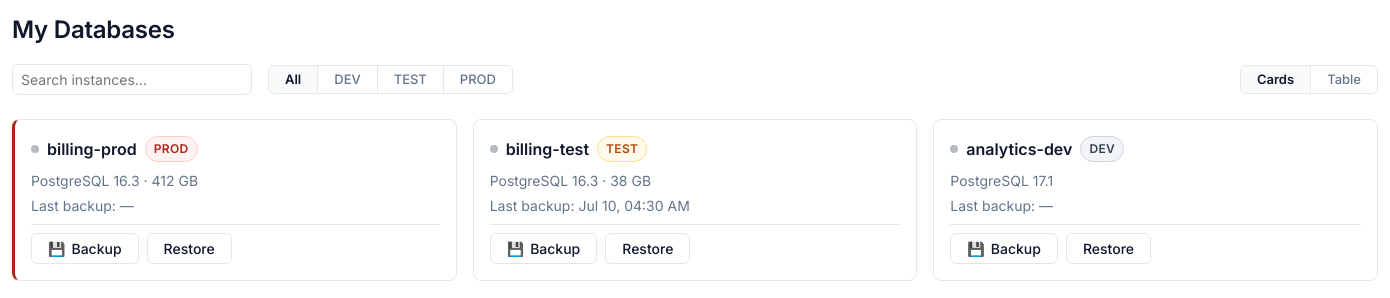
Test: env pills refetch with the server-side filter
The width and height of the screenshot is (1390, 298).
Expected: the text "billing-prod" is shown, [47,137,137,161]
Click the button "PROD".
click(477, 80)  # box [443,66,512,93]
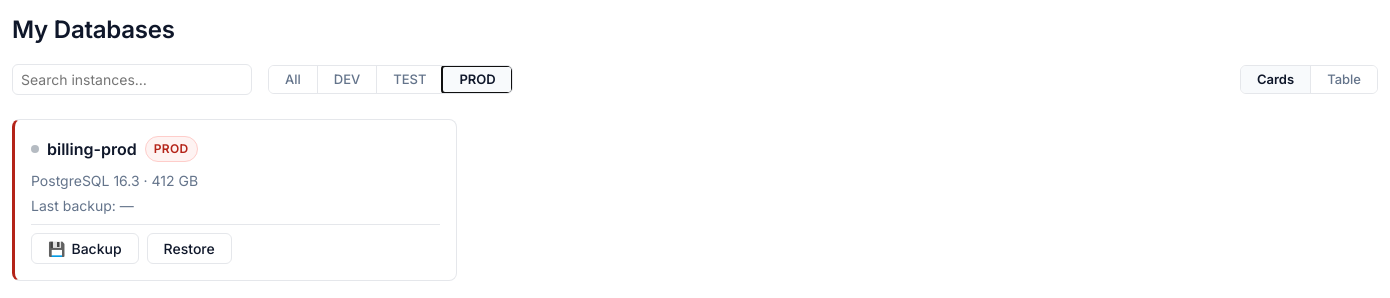
Expected: the text "billing-prod" is shown, [47,137,137,161]
Expected: the text "billing-test" is gone
